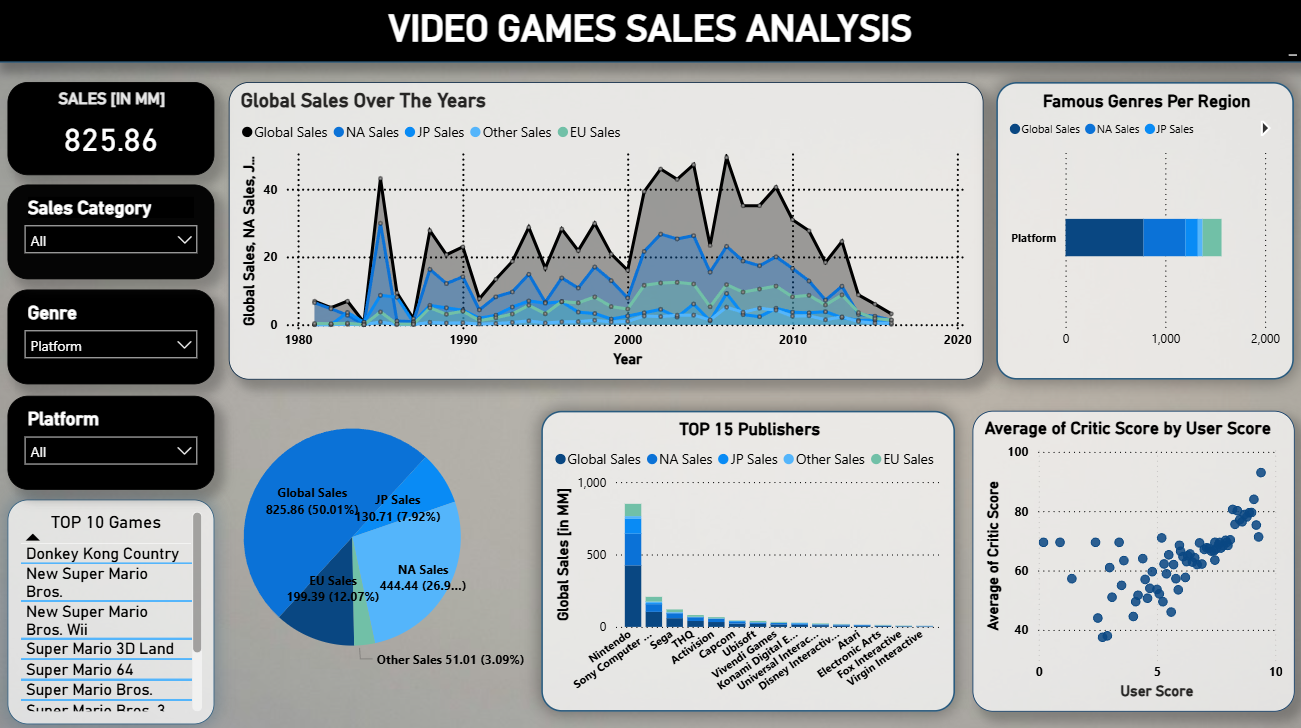

Layout of this report page (visuals, bound fields, positions):
{"tool":"powerbi","page":{"name":"Page 3","canvas":[1280,720],"ordinal":0},"visuals":[{"type":"card","title":"SALES [IN MM]","fields":{"Values":["vgsales.Sum_global_sales"]},"box":[12.5,83.8,202.5,91.2],"z":0},{"type":"slicer","fields":{"Values":["vgsales.Genre"]},"box":[12.8,286,202.3,93],"z":1000},{"type":"slicer","fields":{"Values":["Sales Category.Sales Category"]},"box":[12.5,183.8,202.5,92.5],"z":2000},{"type":"lineChart","title":"Global Sales Over The Years","fields":{"Y":["vgsales.Sum_global_sales","vgsales.Sum_na_sales","vgsales.Sum_jp_sales","vgsales.Sum_other_sales","vgsales.Sum_eu_sales"],"Category":["vgsales.Year_of_Release"]},"box":[228.8,83.8,738.8,291.2],"z":3000},{"type":"columnChart","title":"TOP 15 Publishers","fields":{"Y":["vgsales.Sum_global_sales","vgsales.Sum_na_sales","vgsales.Sum_jp_sales","vgsales.Sum_other_sales","vgsales.Sum_eu_sales"],"Category":["vgsales.Publisher"]},"box":[534.9,404.7,404.7,294.2],"z":4000},{"type":"tableEx","fields":{"Values":["vgsales.Name"]},"box":[12.8,491.9,202.3,219.8],"z":5000},{"type":"barChart","title":"Famous Genres Per Region","fields":{"Y":["vgsales.Sum_global_sales","vgsales.Sum_na_sales","vgsales.Sum_jp_sales","vgsales.Sum_other_sales","vgsales.Sum_eu_sales"],"Category":["vgsales.Genre"]},"box":[980,83.8,291.2,291.2],"z":6000},{"type":"pieChart","fields":{"Y":["Sum(vgsales.EU_Sales)","Sum(vgsales.Global_Sales)","Sum(vgsales.JP_Sales)","Sum(vgsales.NA_Sales)","Sum(vgsales.Other_Sales)"]},"box":[136,379.1,427.9,298.8],"z":7000},{"type":"slicer","fields":{"Values":["vgsales.Platform"]},"box":[12.8,389.5,202.3,91.9],"z":8000},{"type":"textbox","title":"VIDEO GAMES SALES ANALYSIS","box":[0,0,1280,63.8],"z":9000},{"type":"scatterChart","fields":{"X":["vgsales.User_Score"],"Y":["vgsales.Critic_Score"]},"box":[955.8,404.7,315.1,294.2],"z":10001}]}

Visuals, with their boxes in screenshot pixels (x1, y1, x2, y2), scaled from the page's 1280x720 canvas onto the 1301x728 screenshot:
"SALES [IN MM]" card: rect(13, 85, 219, 177)
slicer - vgsales.Genre: rect(13, 289, 219, 383)
slicer - Sales Category.Sales Category: rect(13, 186, 219, 279)
"Global Sales Over The Years" lineChart: rect(233, 85, 983, 379)
"TOP 15 Publishers" columnChart: rect(544, 409, 955, 707)
tableEx - vgsales.Name: rect(13, 497, 219, 720)
"Famous Genres Per Region" barChart: rect(996, 85, 1292, 379)
pieChart - Sum(vgsales.EU_Sales) x Sum(vgsales.Global_Sales): rect(138, 383, 573, 685)
slicer - vgsales.Platform: rect(13, 394, 219, 487)
"VIDEO GAMES SALES ANALYSIS" textbox: rect(0, 0, 1300, 65)
scatterChart - vgsales.User_Score x vgsales.Critic_Score: rect(971, 409, 1292, 707)
